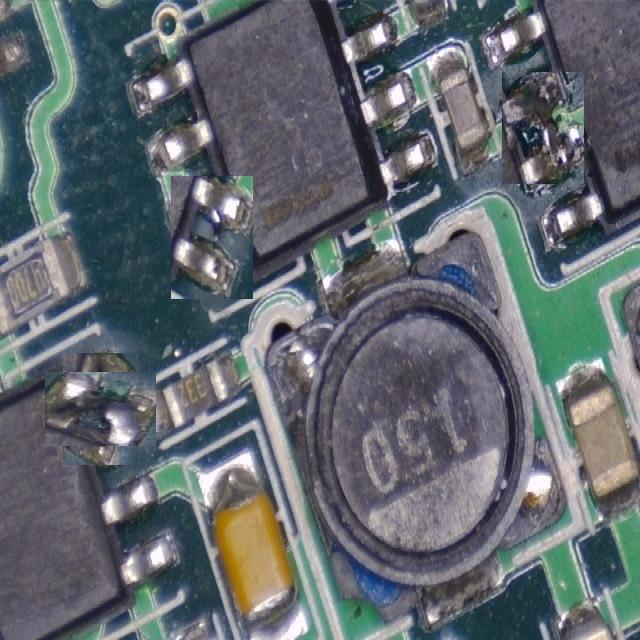Short_circuit: (171, 177, 253, 298), (501, 72, 584, 184), (46, 372, 156, 445)
